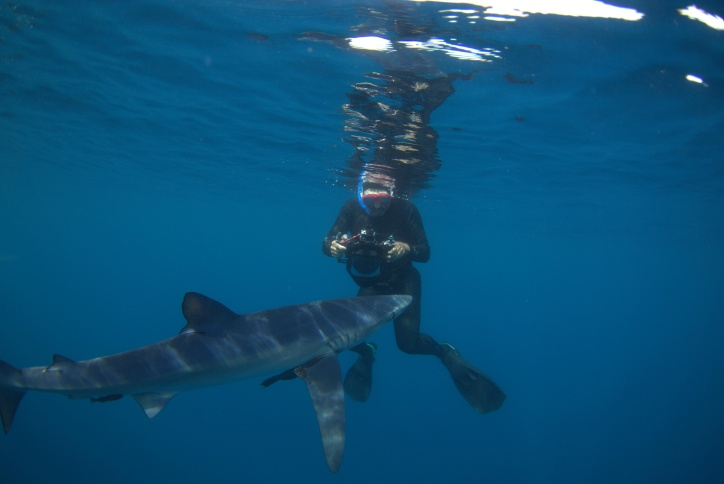Azul: (1, 262, 460, 461)
